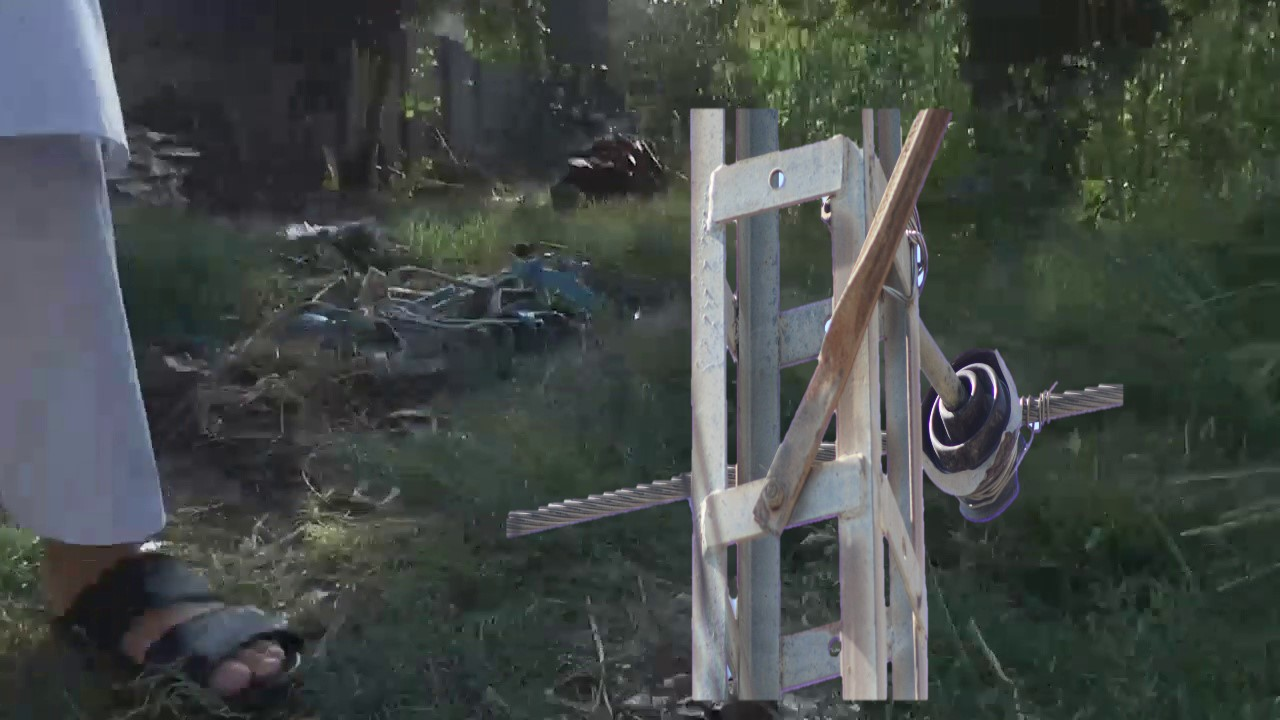defect_pin: (913, 341, 1042, 532)
